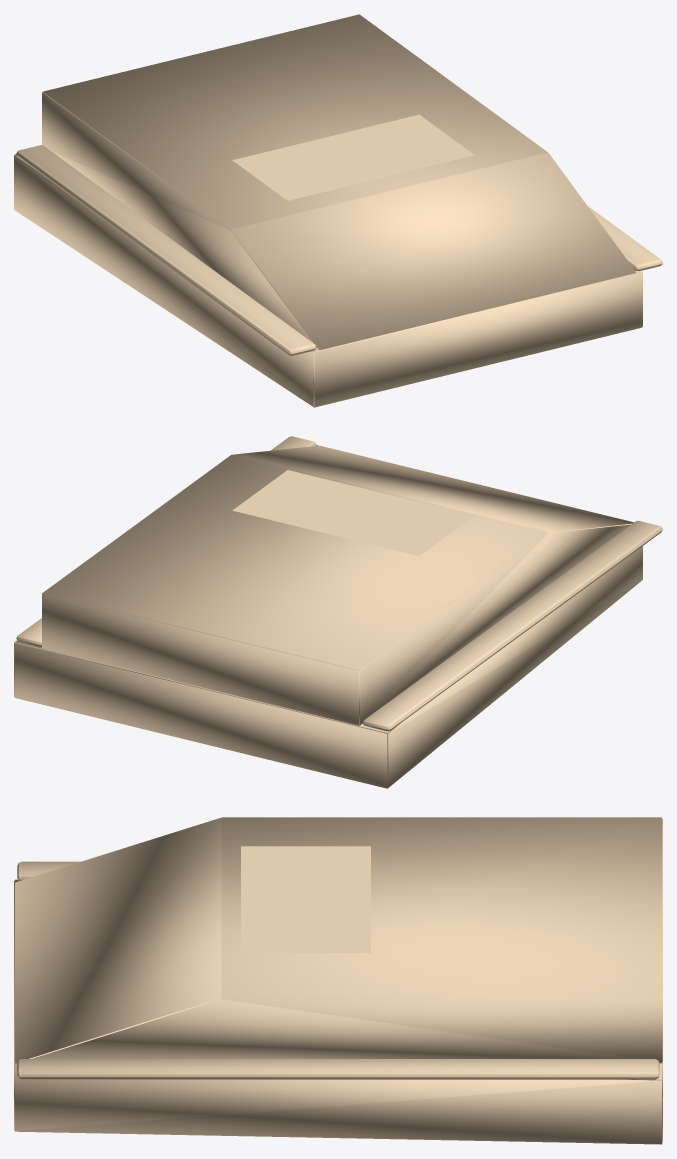
File: plate_scout_tidemark.glb
The picture shows the model from 3 angles, top to bottom: view 1: azimuth 30°, elevation 25°; view 2: azimuth 150°, elevation 25°; view 3: azimuth 270°, elevation 25°; orthographic projection. The views are drawn at different scales.
Parts seen in each view (by area): view 1: plate_scout_tidemark; view 2: plate_scout_tidemark; view 3: plate_scout_tidemark.
Part boxes in pixels (x1=…): plate_scout_tidemark: x1=14, y1=14, x2=662, y2=407; plate_scout_tidemark: x1=14, y1=436, x2=662, y2=788; plate_scout_tidemark: x1=14, y1=817, x2=662, y2=1144.
Size of the model in its own units: 3.5 by 1.06 by 4.5.
